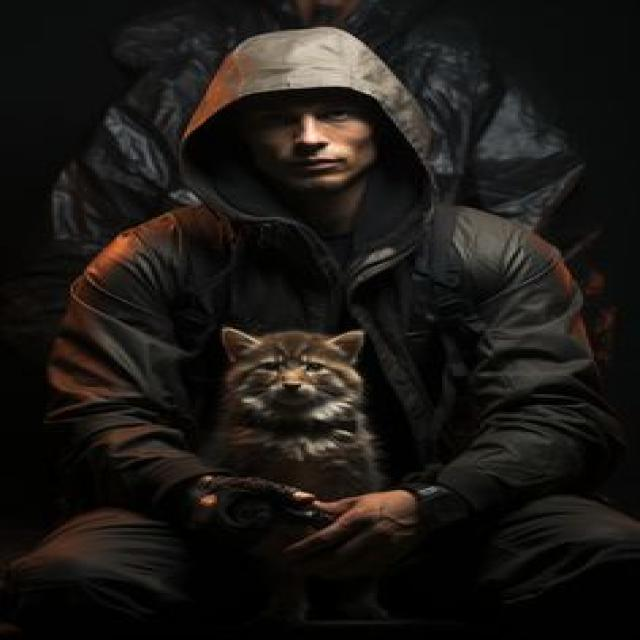4_capucha: (176, 29, 462, 268)
